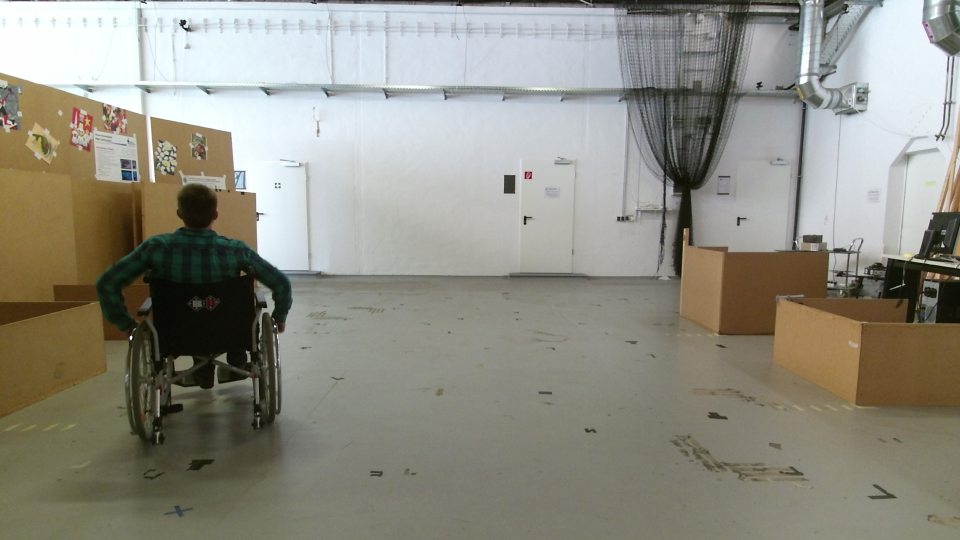wheelchair: (101, 170, 299, 468)
